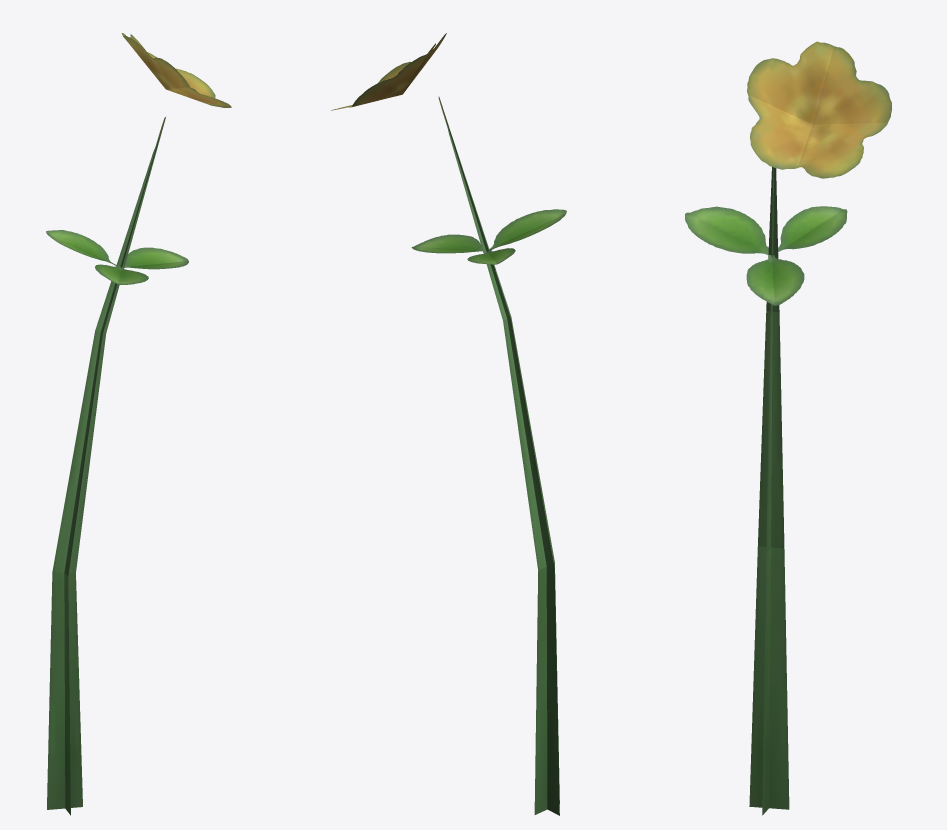
Rendered from pref_sm_beach_techflower09a_lv2.fbx.
3 renders of one model, left to right at view 1: azimuth 30°, elevation 25°; view 2: azimuth 150°, elevation 25°; view 3: azimuth 270°, elevation 25°, orthographic. The views are drawn at different scales.
Visible parts, largest first — view 1: pref_sm_beach_techflower09a_lv2; view 2: pref_sm_beach_techflower09a_lv2; view 3: pref_sm_beach_techflower09a_lv2.
Part boxes in pixels (bbox=[...]): pref_sm_beach_techflower09a_lv2: bbox=[46, 33, 231, 815]; pref_sm_beach_techflower09a_lv2: bbox=[331, 33, 566, 815]; pref_sm_beach_techflower09a_lv2: bbox=[685, 41, 891, 815].
Bounding box in the file's own units: 0.1393 × 0.4206 × 0.1329.
